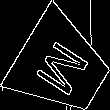M_SE: (30, 34, 94, 100)
